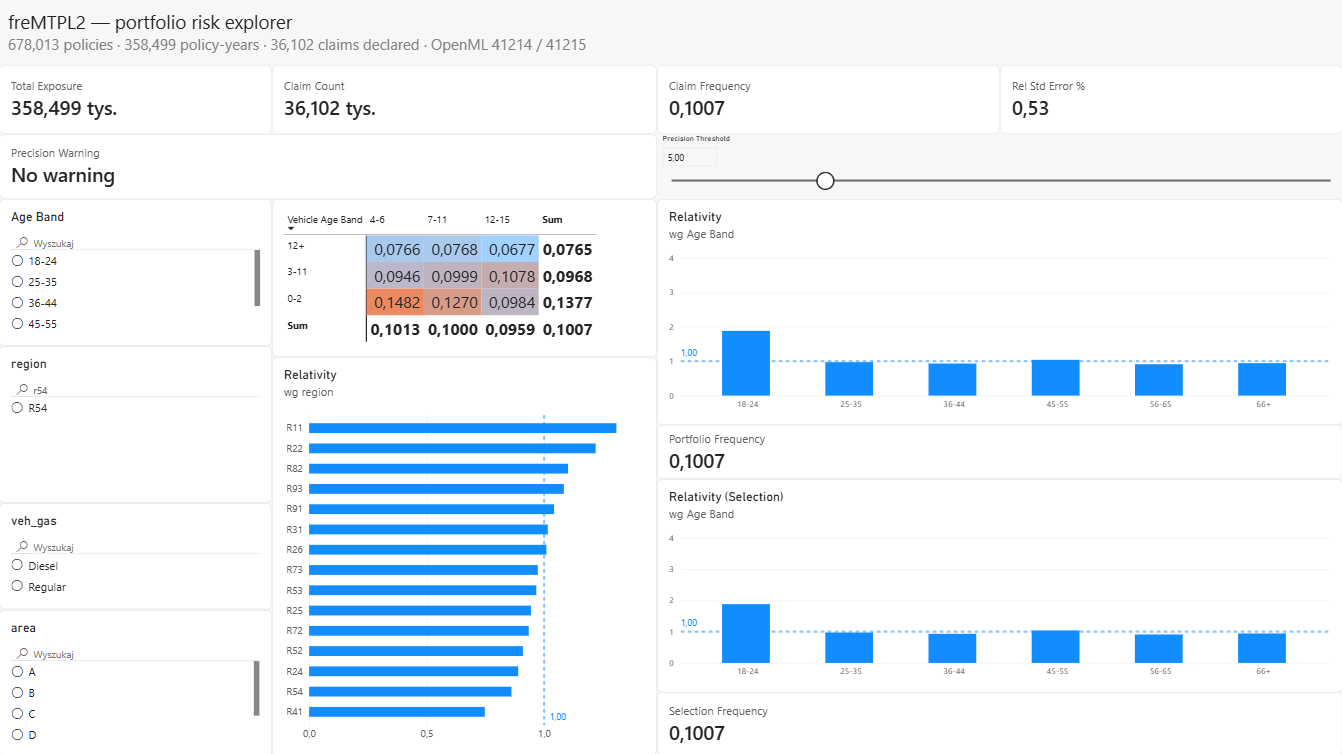

The dashboard page shown, as its layout file describes it:
{"tool":"powerbi","page":{"name":"Portfolio risk","canvas":[1920,1080],"ordinal":1},"visuals":[{"type":"listSlicer","fields":{"Values":["policy.region"]},"box":[0,494.8,389.9,224.5],"z":0},{"type":"listSlicer","fields":{"Values":["policy.Age Band"]},"box":[0,284.3,390,210],"z":1000},{"type":"listSlicer","fields":{"Values":["policy.veh_gas"]},"box":[0,719.3,389.9,152.1],"z":2000},{"type":"listSlicer","fields":{"Values":["policy.area"]},"box":[0,871.4,389.9,209.7],"z":3000},{"type":"clusteredColumnChart","fields":{"Category":["policy.Age Band"],"Y":["policy.Relativity"]},"box":[940,284.3,980,322.9],"z":4000},{"type":"clusteredColumnChart","fields":{"Category":["policy.Age Band"],"Y":["policy.Relativity (Selection)"]},"box":[940.2,684.2,979.8,304.8],"z":5000},{"type":"cardVisual","fields":{"Data":["claim.Precision Warning"]},"box":[0,191.4,940,92.9],"z":6000},{"type":"cardVisual","fields":{"Data":["policy.Portfolio Frequency"]},"box":[940.2,606.5,979.8,77.7],"z":7000},{"type":"cardVisual","fields":{"Data":["policy.Selection Frequency"]},"box":[940.2,989,979.8,91.4],"z":8000},{"type":"pivotTable","fields":{"Columns":["policy.Vehicle Power Band"],"Rows":["policy.Vehicle Age Band"],"Values":["policy.Claim Frequency"]},"box":[390,284.3,550,225.7],"z":9000},{"type":"textbox","box":[12.9,12.9,1907.1,68.6],"z":10000},{"type":"clusteredBarChart","fields":{"Category":["policy.region"],"Y":["policy.Relativity"]},"box":[390,510,550,570],"z":11000},{"type":"slicer","fields":{"Values":["Precision Threshold.Precision Threshold"]},"box":[940,191.4,980,92.9],"z":12000},{"type":"cardVisual","fields":{"Data":["policy.Total Exposure"]},"box":[0,92.9,390,98.6],"z":12001},{"type":"cardVisual","fields":{"Data":["policy.Claim Count"]},"box":[390,92.9,550,98.6],"z":12002},{"type":"cardVisual","fields":{"Data":["policy.Claim Frequency"]},"box":[940,92.9,490,98.6],"z":12003},{"type":"cardVisual","fields":{"Data":["policy.Rel Std Error %"]},"box":[1430,92.9,490,98.6],"z":12004}]}

Visuals, with their boxes in screenshot pixels (x1, y1, x2, y2), scaled from the page's 1920x1080 canvas onto the 1342x754 screenshot:
listSlicer - policy.region: 0, 345, 273, 502
listSlicer - policy.Age Band: 0, 198, 273, 345
listSlicer - policy.veh_gas: 0, 502, 273, 608
listSlicer - policy.area: 0, 608, 273, 753
clusteredColumnChart - policy.Age Band x policy.Relativity: 657, 198, 1341, 424
clusteredColumnChart - policy.Age Band x policy.Relativity (Selection): 657, 478, 1341, 690
cardVisual - claim.Precision Warning: 0, 134, 657, 198
cardVisual - policy.Portfolio Frequency: 657, 423, 1341, 478
cardVisual - policy.Selection Frequency: 657, 690, 1341, 753
pivotTable - policy.Vehicle Power Band x policy.Vehicle Age Band: 273, 198, 657, 356
textbox: 9, 9, 1341, 57
clusteredBarChart - policy.region x policy.Relativity: 273, 356, 657, 753
slicer - Precision Threshold.Precision Threshold: 657, 134, 1341, 198
cardVisual - policy.Total Exposure: 0, 65, 273, 134
cardVisual - policy.Claim Count: 273, 65, 657, 134
cardVisual - policy.Claim Frequency: 657, 65, 1000, 134
cardVisual - policy.Rel Std Error %: 1000, 65, 1341, 134
